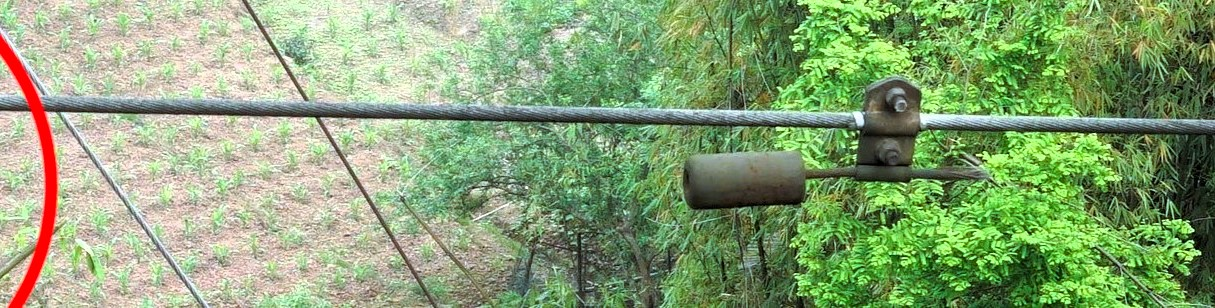Damage of shockproof hammer: (671, 69, 1005, 225)
